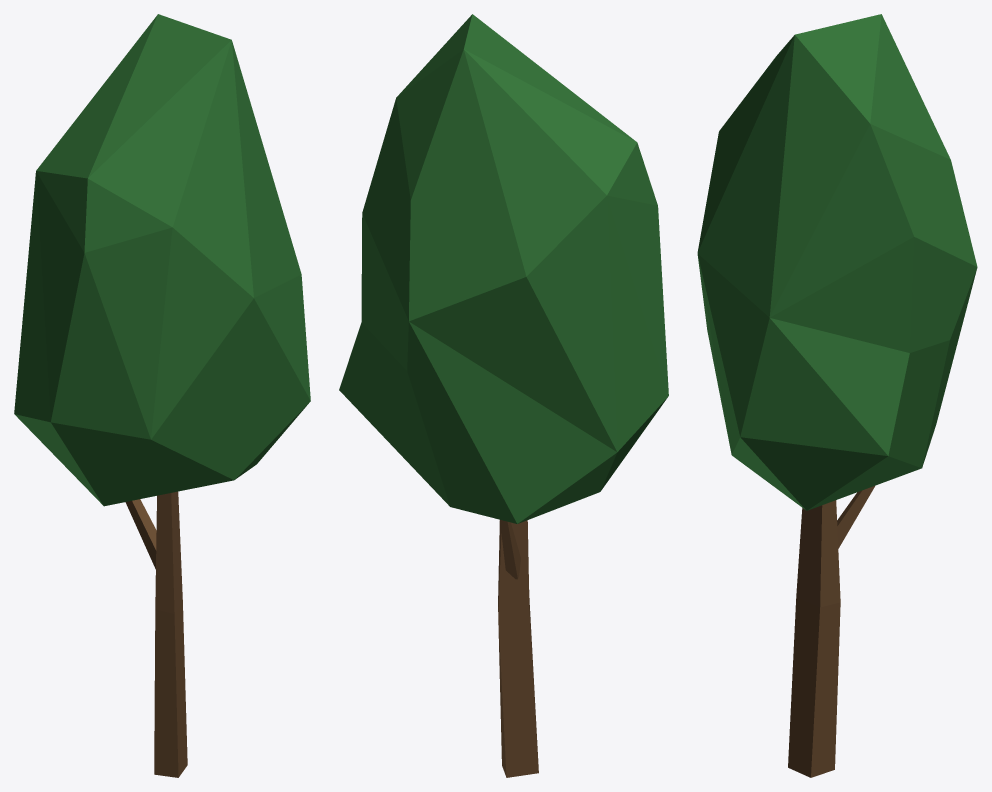
The model's file is tree-simple.glb.
3 renders of one model, left to right at view 1: azimuth 30°, elevation 25°; view 2: azimuth 150°, elevation 25°; view 3: azimuth 270°, elevation 25°, orthographic. The views are drawn at different scales.
Visible parts, largest first — view 1: tree-simple; view 2: tree-simple; view 3: tree-simple.
Part boxes in pixels (x1,y1,x2,y2): tree-simple: [14, 14, 310, 777]; tree-simple: [339, 14, 668, 777]; tree-simple: [697, 14, 977, 777].
Bounding box in the file's own units: 1.98 × 5.02 × 1.66.
